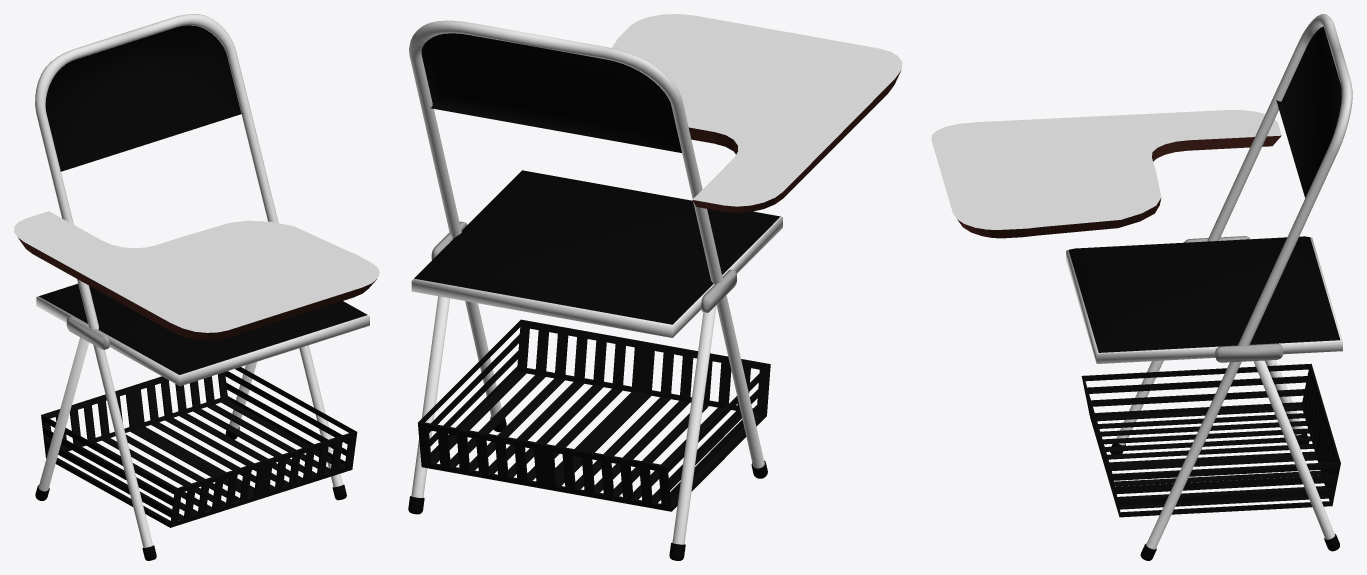
Rendered from StudentChair-transformed.glb.
3 views of the same model, side by side, from view 1: azimuth 30°, elevation 25°; view 2: azimuth 150°, elevation 25°; view 3: azimuth 270°, elevation 25° (orthographic). The views are drawn at different scales.
Parts seen in each view (by area): view 1: Chair; view 2: Chair; view 3: Chair.
Part boxes in pixels (left/top/right/bottom): Chair: left=14, top=14, right=379, bottom=560; Chair: left=408, top=14, right=902, bottom=560; Chair: left=931, top=14, right=1352, bottom=560.
Size of the model in its own units: 1.01 by 1.46 by 1.25.
Materials: 2 (2 with a texture image).
